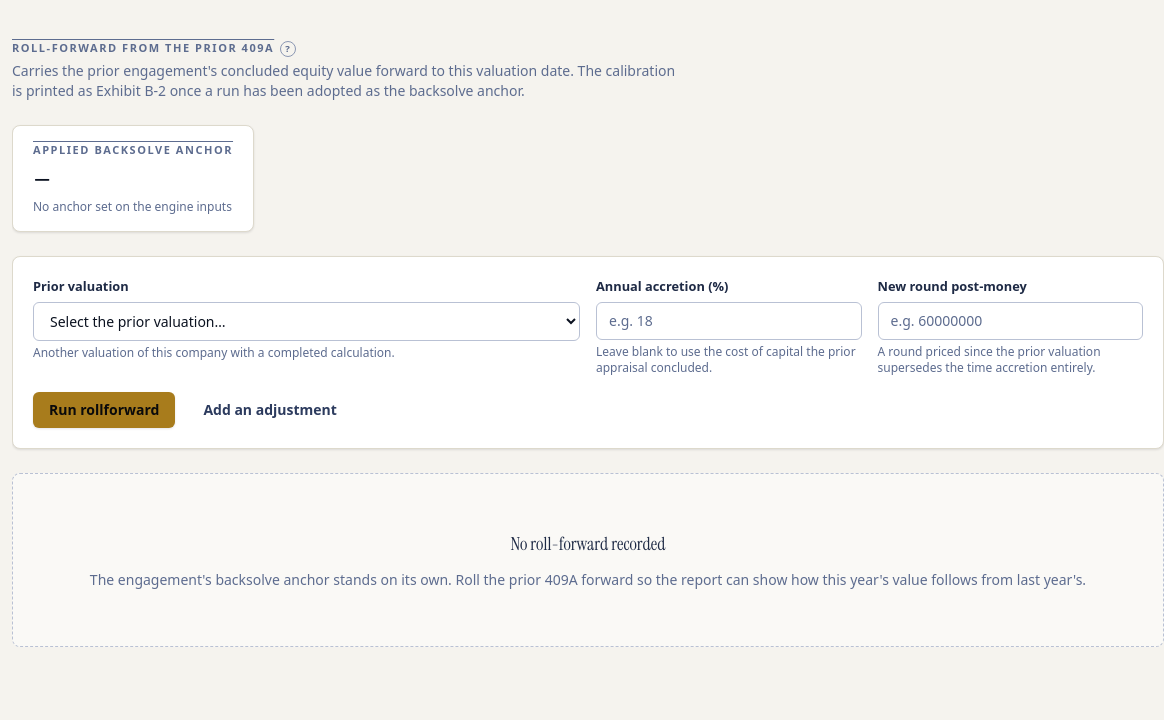
Test case: RollforwardPanel › will not run without a prior valuation chosen
Expected: the text "No roll-forward recorded" is shown, [511,532,666,556]
Click the button "Run rollforward" at [104, 410], box [33,392,175,428]
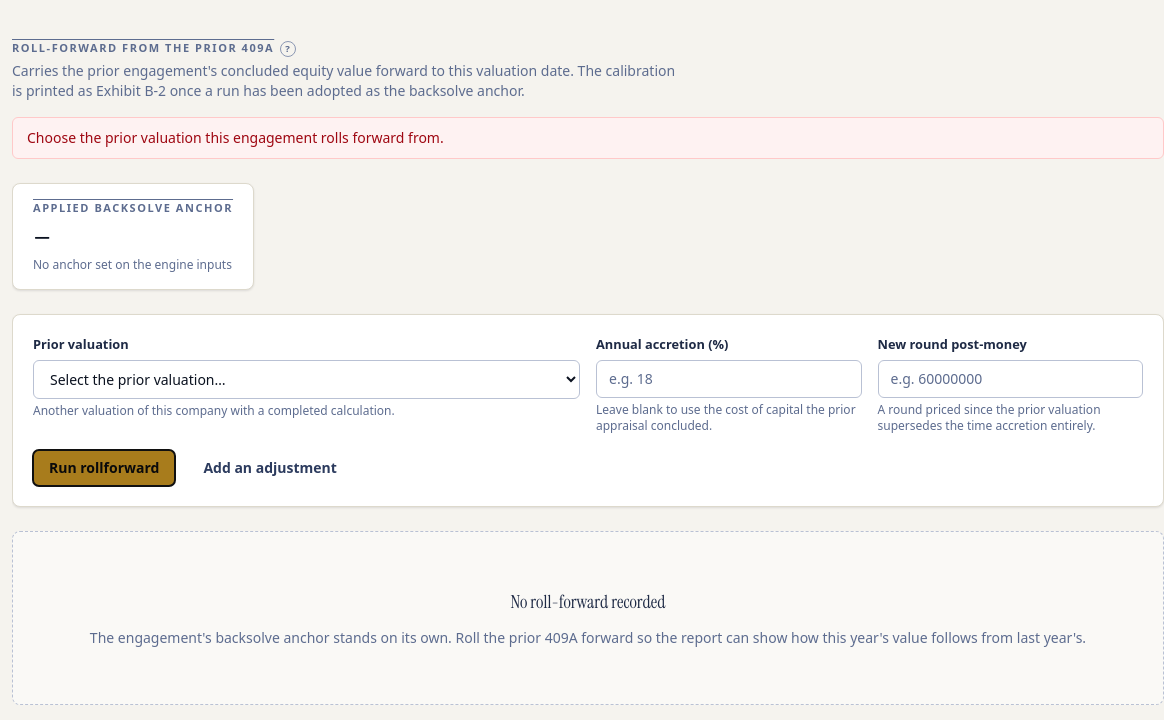
Now the text "Choose the prior valuation this engagement rolls forward from." is shown, box [12,117,1163,159]
